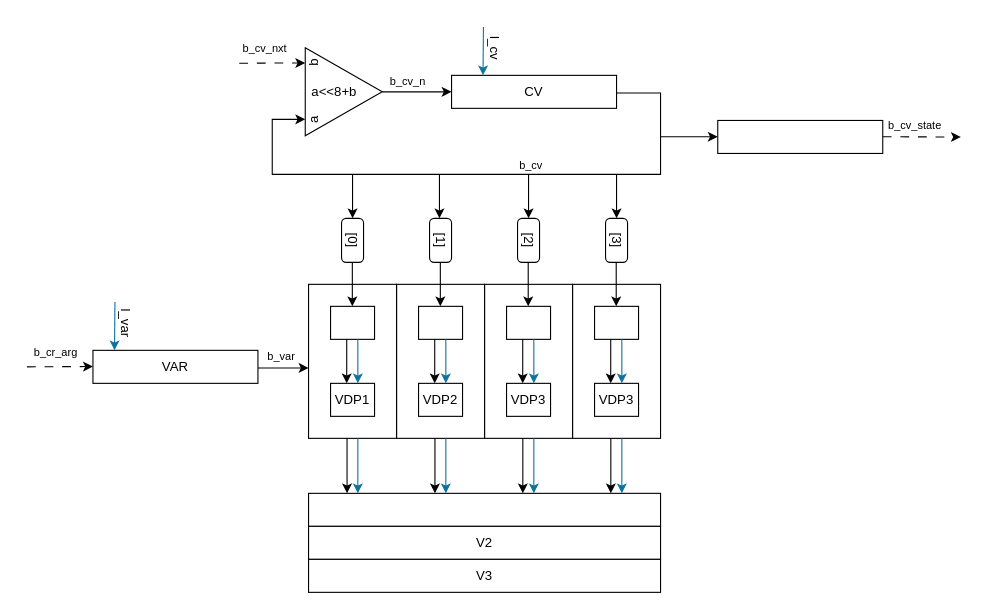
The diagram is 989 pixels wide and 612 high, and some of its shapes have lost their labels. Each missing label, with the centre of its shape:
V1: point (484, 509)
VCU1: point (352, 322)
VCU2: point (440, 322)
VCU3: point (528, 322)
VCU4: point (616, 322)
Vector State Logic: point (800, 136)
